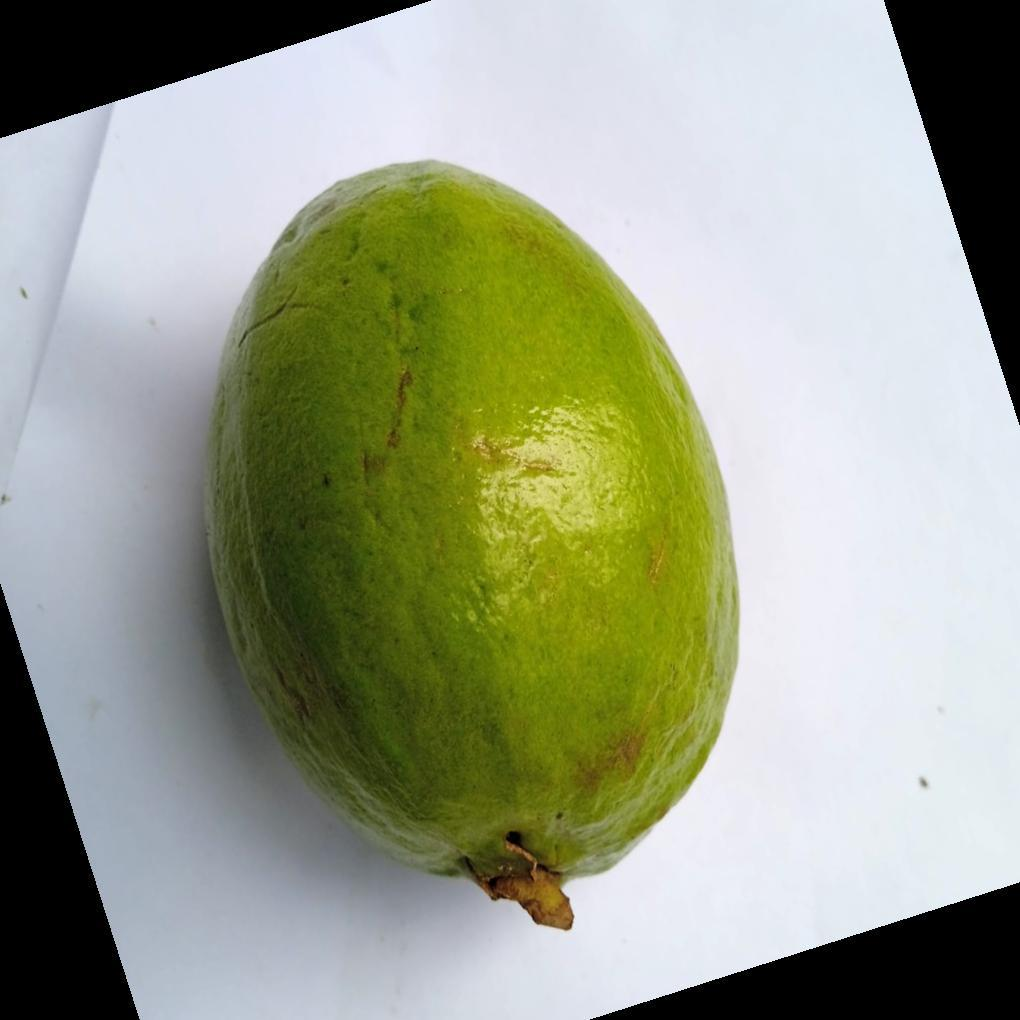FreshGuava: (200, 160, 742, 930)
